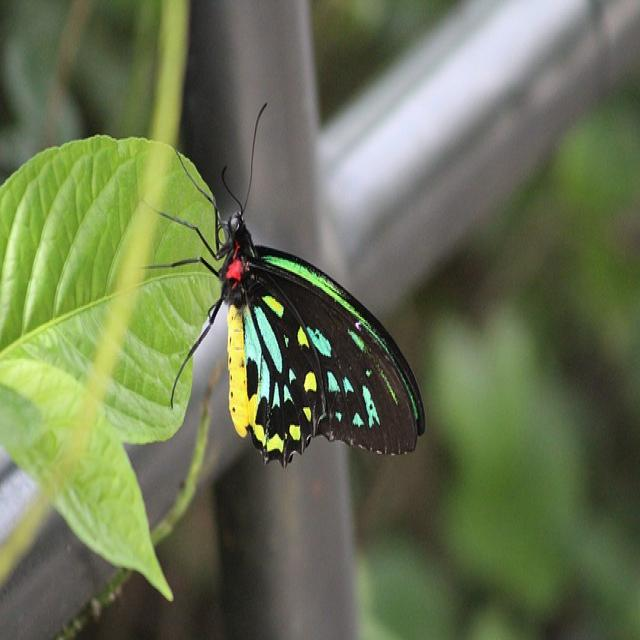butterfly: (185, 210, 426, 469)
